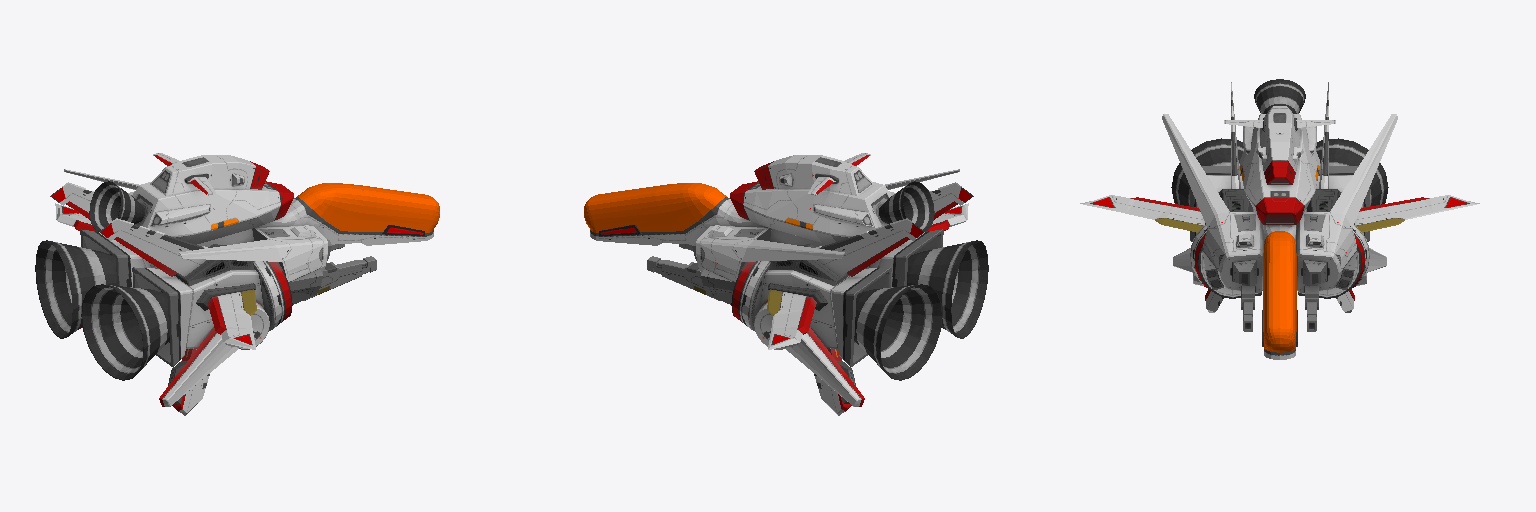
3 views of the same model, side by side, from view 1: azimuth 30°, elevation 25°; view 2: azimuth 150°, elevation 25°; view 3: azimuth 270°, elevation 25° (orthographic).
Visible parts, largest first — view 1: obj_028_00.mo_obj_028_00.md; view 2: obj_028_00.mo_obj_028_00.md; view 3: obj_028_00.mo_obj_028_00.md.
Part boxes in pixels (x1,y1,x2,y2): obj_028_00.mo_obj_028_00.md: (35,153,439,415); obj_028_00.mo_obj_028_00.md: (584,153,988,415); obj_028_00.mo_obj_028_00.md: (1080,79,1479,359).
Size of the model in its own units: 0.8553 by 0.4889 by 0.82.
Materials: 1 (1 with a texture image).